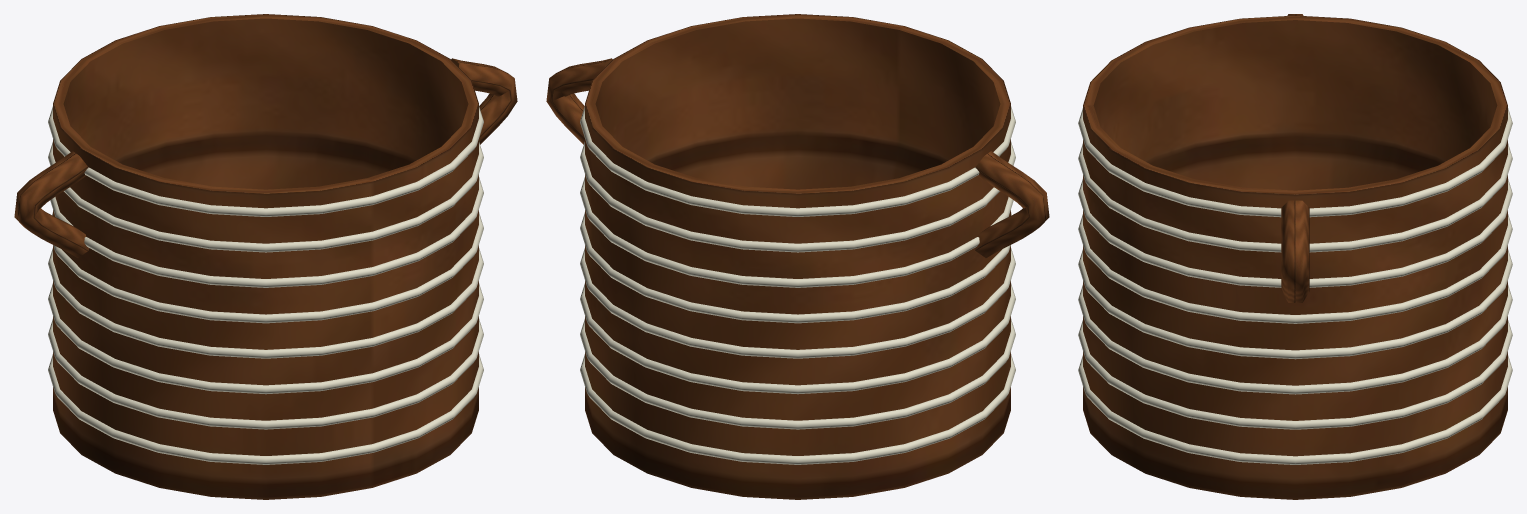
File: primitive-crafting-workshop-woven-hamper-42ff737c__21575.glb
The picture shows the model from 3 angles, left to right: view 1: azimuth 30°, elevation 25°; view 2: azimuth 150°, elevation 25°; view 3: azimuth 270°, elevation 25°; orthographic projection.
Parts seen in each view (by area): view 1: woven-hamper; view 2: woven-hamper; view 3: woven-hamper.
Part boxes in pixels (x1,y1,x2,y2): woven-hamper: (14, 14, 517, 499); woven-hamper: (546, 14, 1049, 499); woven-hamper: (1078, 14, 1512, 499).
Size of the model in its own units: 0.8063 by 0.5 by 0.614.
2 materials, 1 textured.
